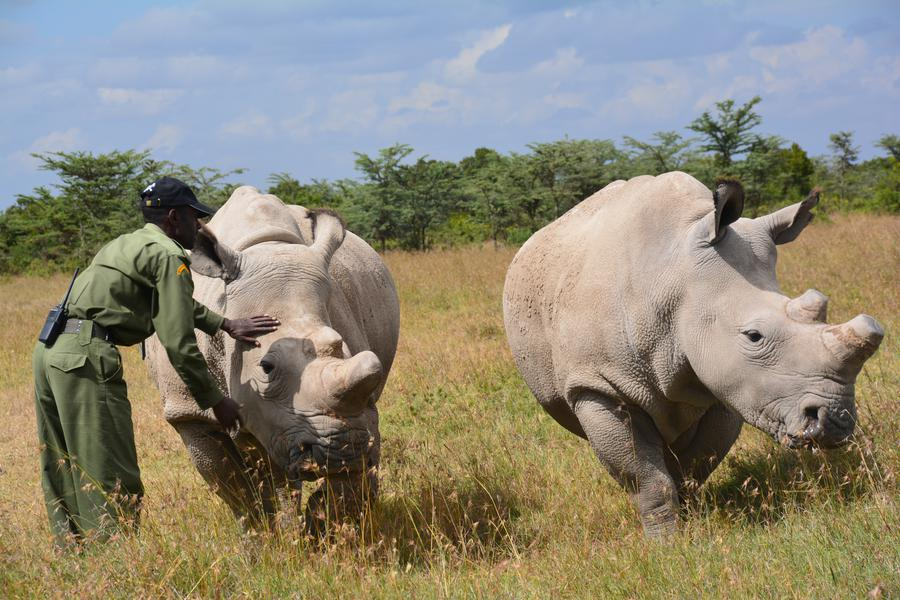rhino: (474, 156, 887, 553), (162, 167, 401, 493)
